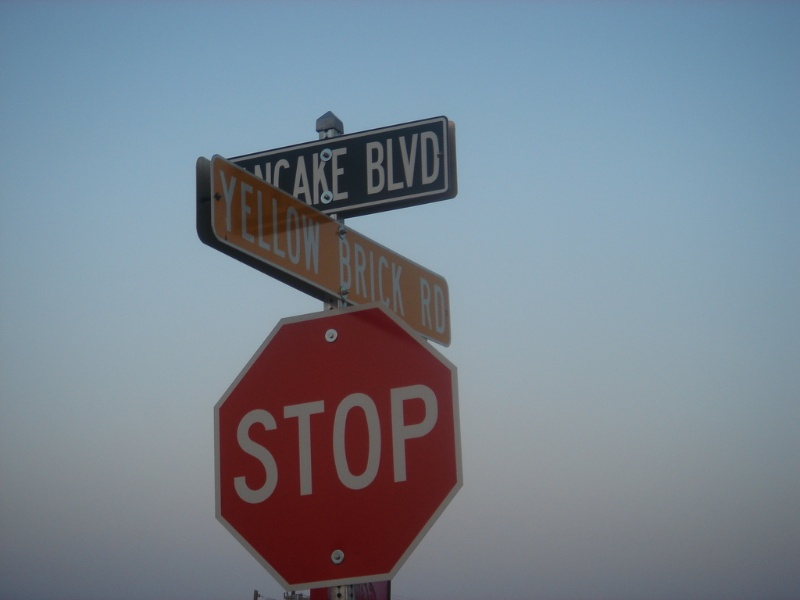stop: (213, 307, 495, 587)
